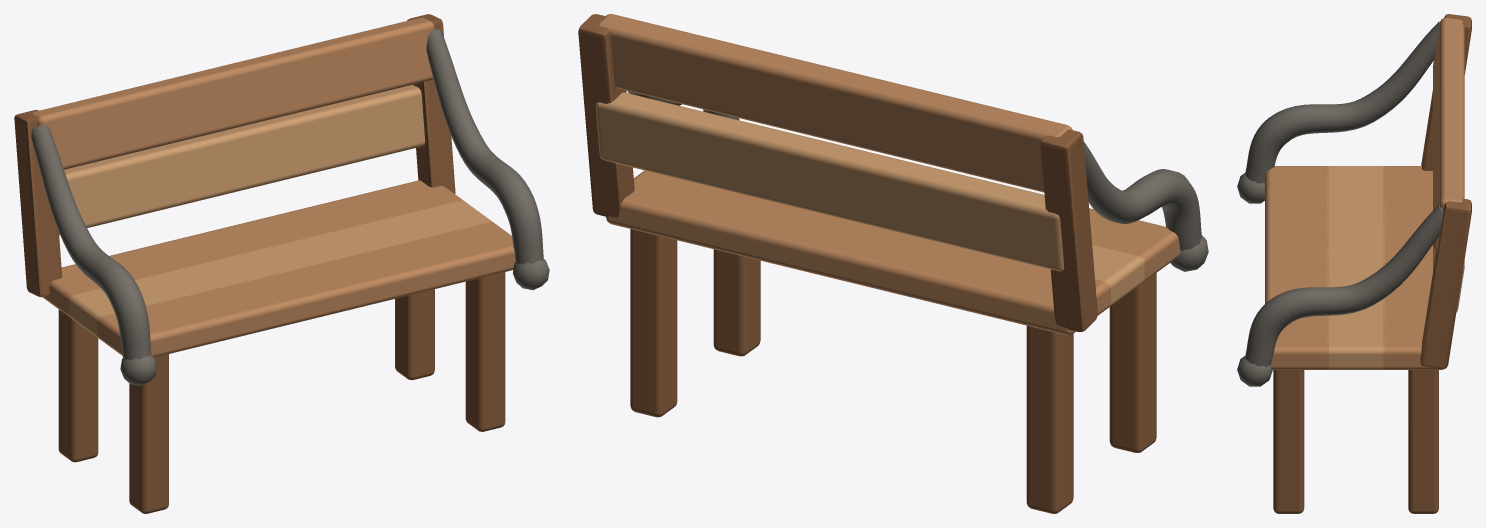
The model's file is wooden_bench.glb.
3 renders of one model, left to right at view 1: azimuth 30°, elevation 25°; view 2: azimuth 150°, elevation 25°; view 3: azimuth 270°, elevation 25°, orthographic. The views are drawn at different scales.
Visible parts, largest first — view 1: wooden_bench; view 2: wooden_bench; view 3: wooden_bench.
Part boxes in pixels (x1,y1,x2,y2): wooden_bench: [14, 14, 549, 513]; wooden_bench: [578, 14, 1208, 513]; wooden_bench: [1237, 14, 1471, 513].
Size of the model in its own units: 0.8309 by 0.6336 by 0.4179.
